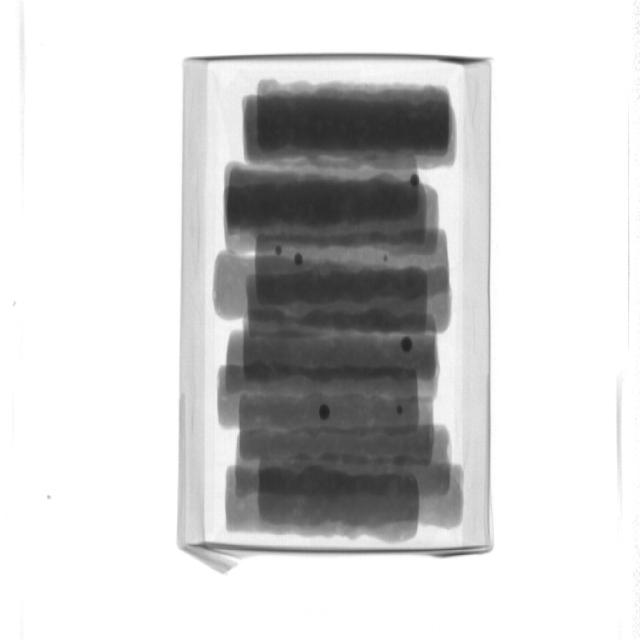ym: (401, 338, 413, 355), (320, 406, 331, 422), (295, 253, 304, 266), (413, 175, 421, 186), (397, 406, 405, 416), (276, 247, 284, 255), (384, 255, 390, 261)
